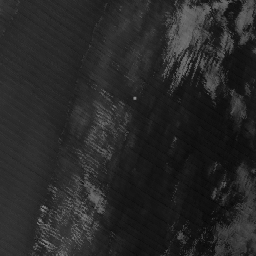Target: (132, 94, 138, 100)
